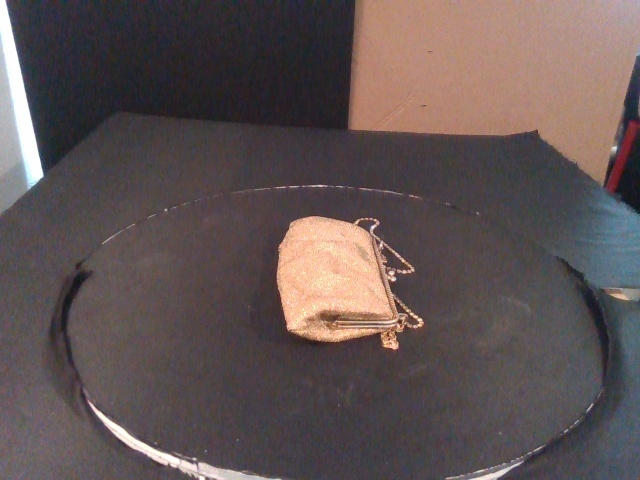bag: (276, 214, 398, 342)
